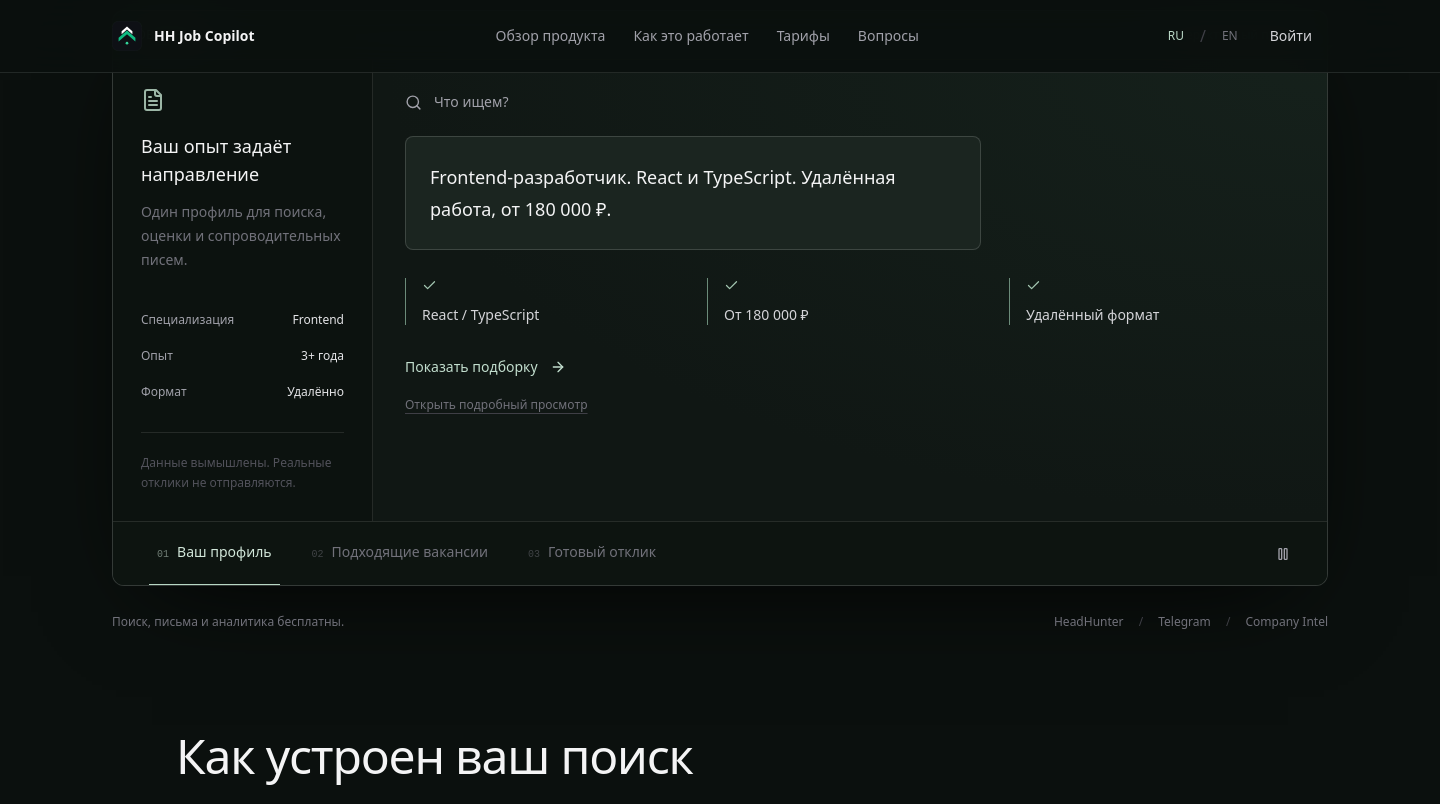
Test: starts in Russian and opens an interactive preview
(page scrolled)
Step 1. Click the button with aria-label "Открыть интерактивный просмотр" → x=496, y=405, box [405,397,588,413]
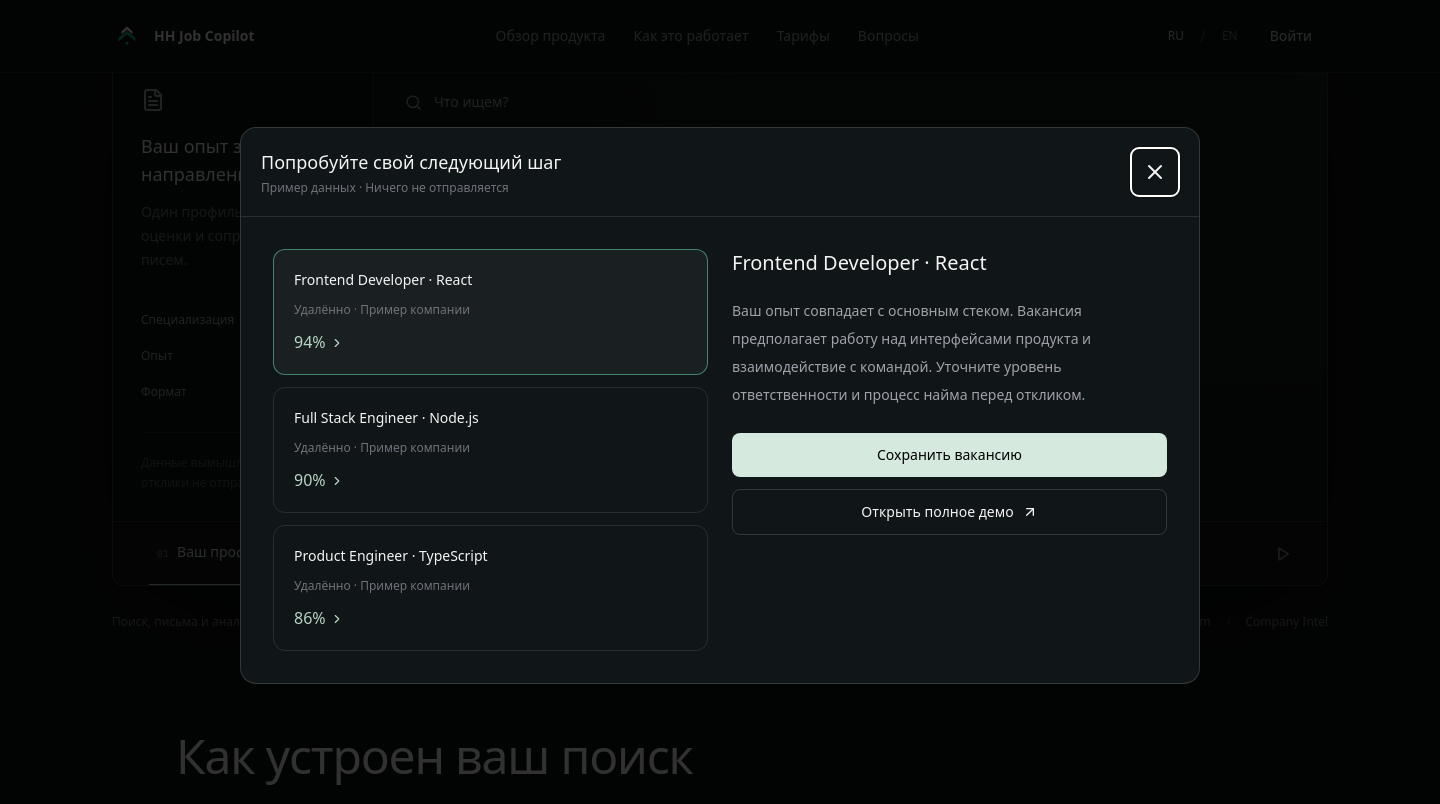
Result: the dialog is shown at [240,126,1200,684]
Step 2. Click the button named "Закрыть просмотр" → x=1155, y=172, box [1131,148,1179,196]
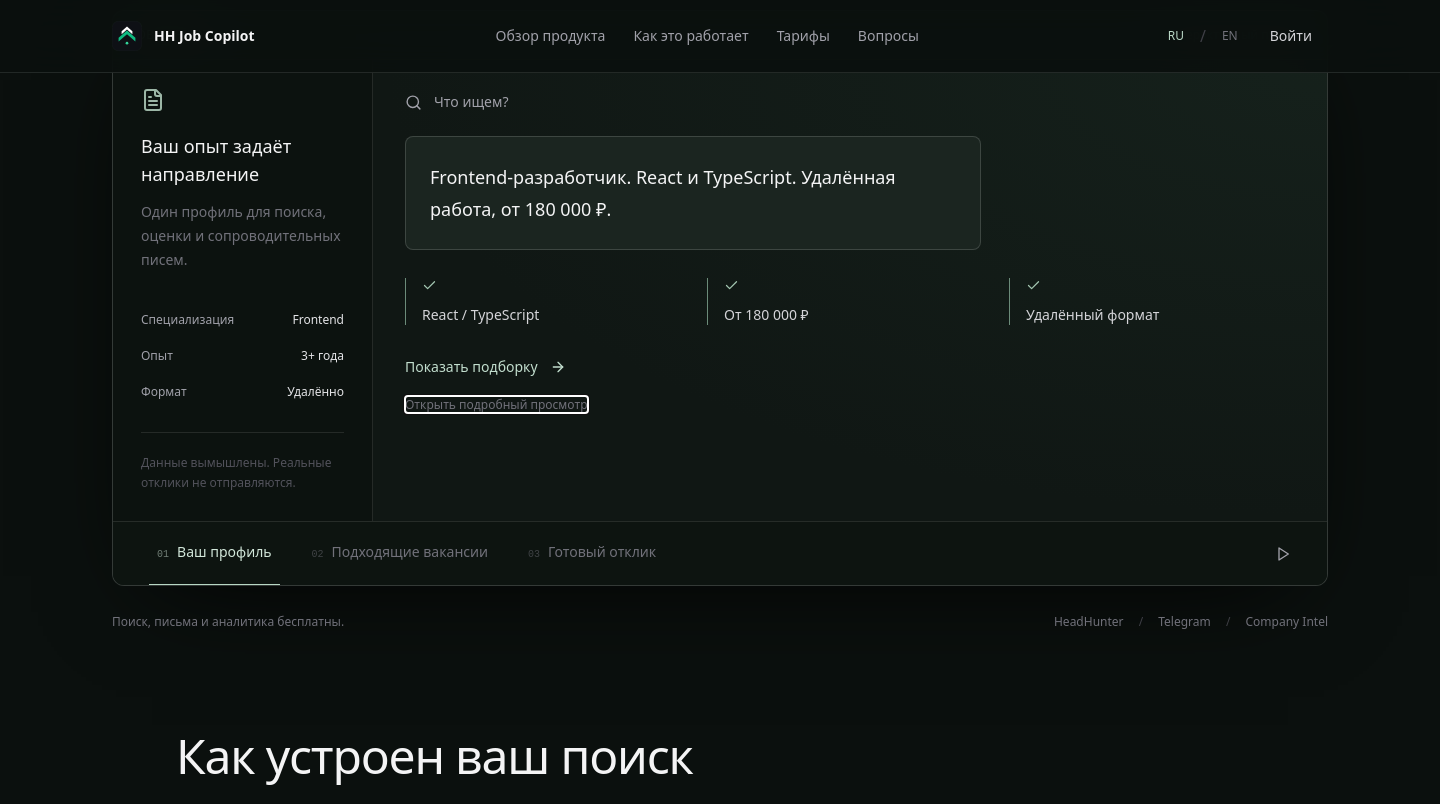
Result: the dialog is gone
